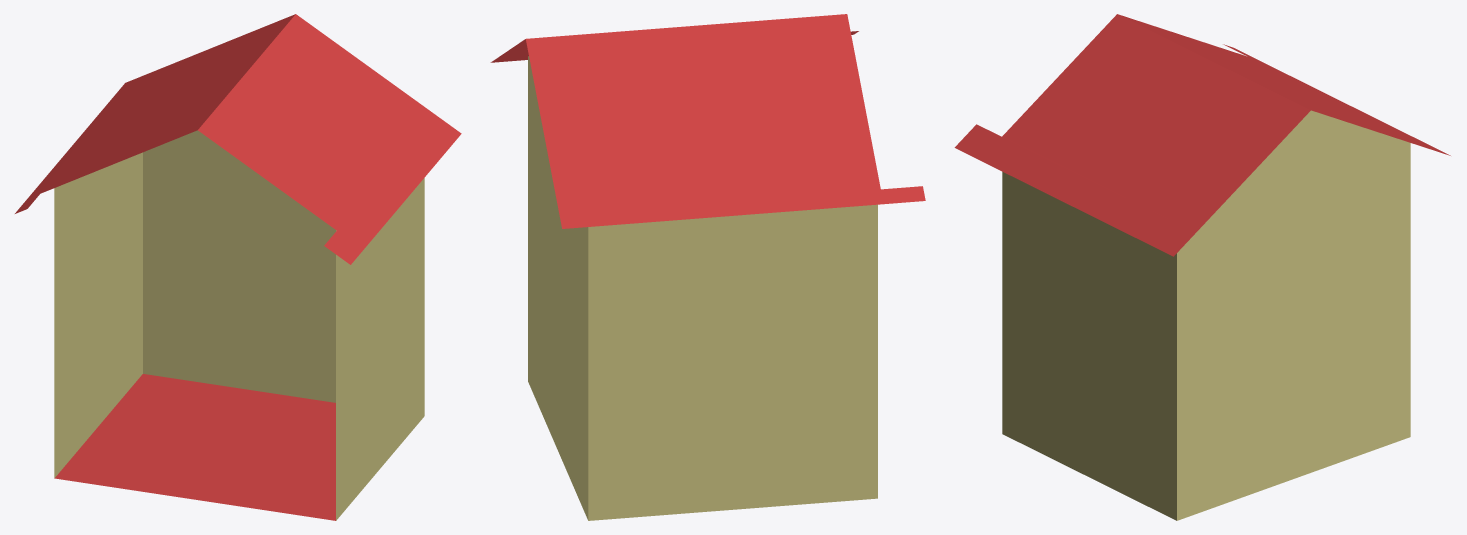
The picture shows the model from 3 angles, left to right: view 1: azimuth 30°, elevation 25°; view 2: azimuth 150°, elevation 25°; view 3: azimuth 270°, elevation 25°; orthographic projection. The views are drawn at different scales.
Visible parts, largest first — view 1: group_5, group_3, group_6, group_4; view 2: group_5, group_3, group_4; view 3: group_5, group_3, group_4.
Part boxes in pixels (<box>): group_5: <box>54,130,424,520</box>; group_3: <box>15,14,461,264</box>; group_6: <box>54,374,335,520</box>; group_4: <box>16,26,422,263</box>; group_5: <box>528,56,877,520</box>; group_3: <box>490,14,925,228</box>; group_4: <box>527,31,924,228</box>; group_5: <box>1002,110,1410,520</box>; group_3: <box>955,14,1450,256</box>; group_4: <box>955,46,1447,220</box>.
Bounding box in the file's own units: 16.61 × 16.71 × 14.03.
